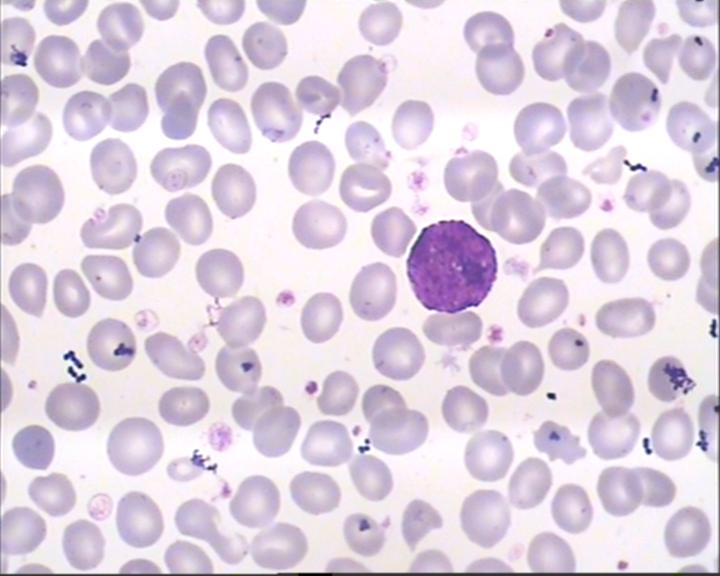baso: (401, 215, 500, 316)
